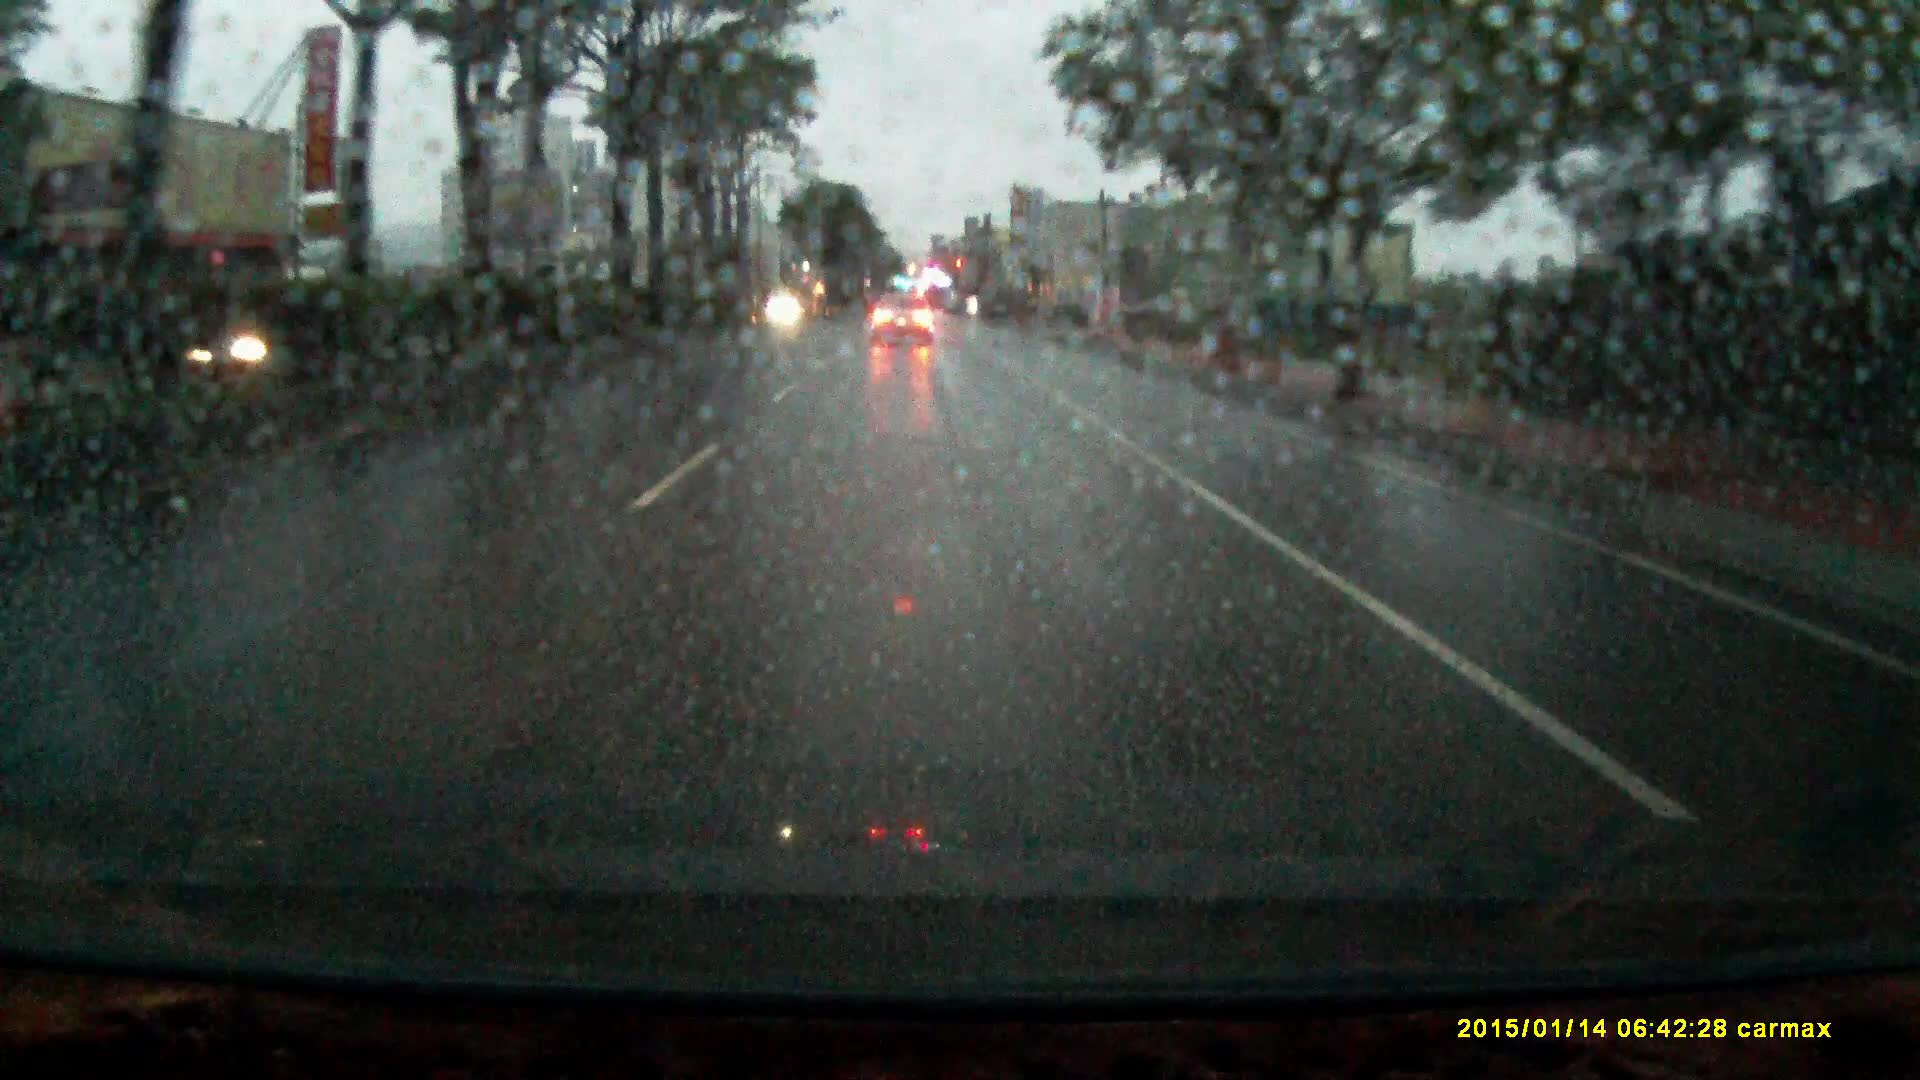vehicle: (874, 299, 936, 342)
